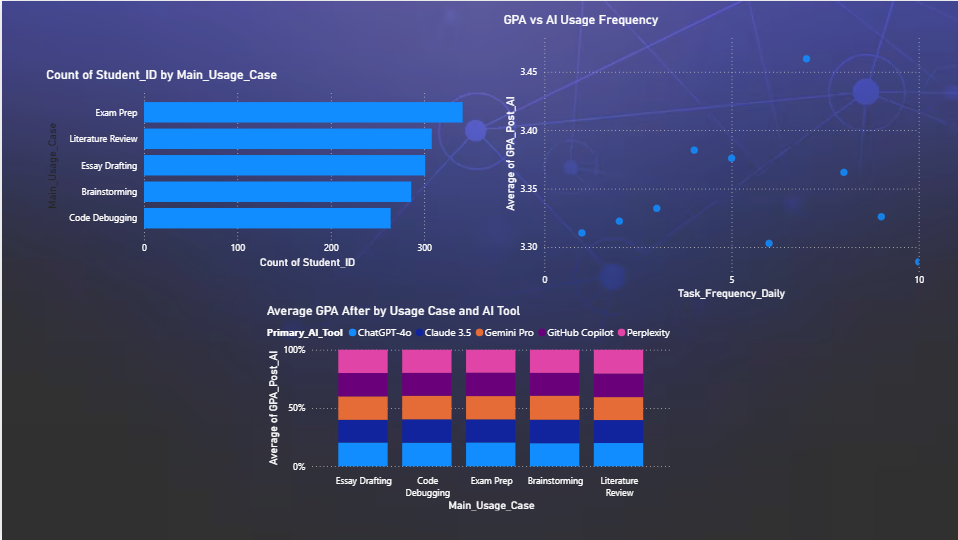

The dashboard page shown, as its layout file describes it:
{"tool":"powerbi","page":{"name":"Page 2","canvas":[1280,720],"ordinal":1},"visuals":[{"type":"clusteredBarChart","fields":{"Category":["AI_Impact_Student_Life_2026.Main_Usage_Case"],"Y":["Count(AI_Impact_Student_Life_2026.Student_ID)"]},"box":[54,88,586,272],"z":0},{"type":"scatterChart","title":"GPA vs AI Usage Frequency","fields":{"Y":["Avg(AI_Impact_Student_Life_2026.GPA_Post_AI)"],"X":["AI_Impact_Student_Life_2026.Task_Frequency_Daily"]},"box":[664,14,570,388],"z":1000},{"type":"hundredPercentStackedColumnChart","title":"Average GPA After by Usage Case and AI Tool","fields":{"Category":["AI_Impact_Student_Life_2026.Main_Usage_Case"],"Y":["Avg(AI_Impact_Student_Life_2026.GPA_Post_AI)"],"Series":["AI_Impact_Student_Life_2026.Primary_AI_Tool"]},"box":[348,402,548,282],"z":1002}]}

Visuals, with their boxes in screenshot pixels (x1, y1, x2, y2), scaled from the page's 1280x720 canvas onto the 958x540 screenshot:
clusteredBarChart - AI_Impact_Student_Life_2026.Main_Usage_Case x Count(AI_Impact_Student_Life_2026.Student_ID): locate(40, 66, 479, 270)
"GPA vs AI Usage Frequency" scatterChart: locate(497, 10, 924, 302)
"Average GPA After by Usage Case and AI Tool" hundredPercentStackedColumnChart: locate(260, 302, 671, 513)
